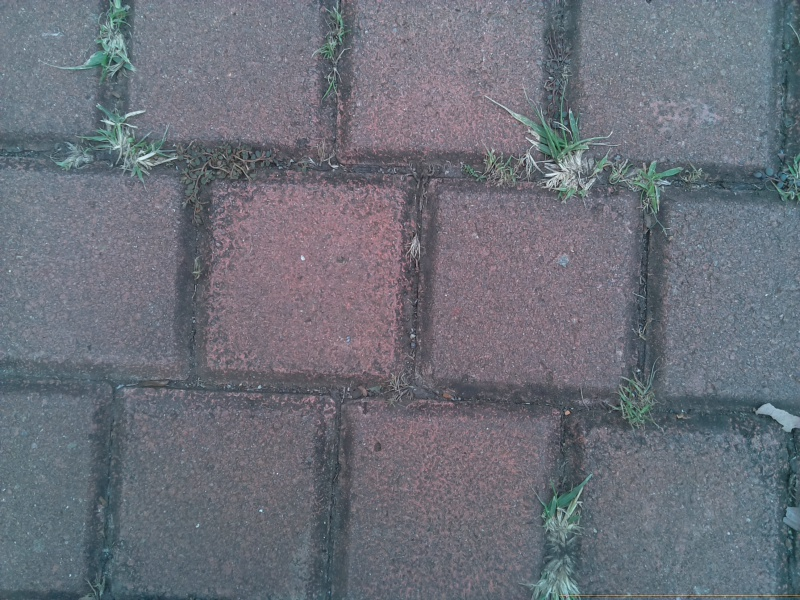Weed: (526, 111, 603, 204), (174, 139, 304, 191), (97, 104, 169, 182), (608, 148, 680, 220), (88, 1, 146, 85), (534, 478, 596, 547), (318, 1, 355, 109), (614, 370, 668, 435), (523, 551, 589, 600), (472, 144, 522, 196), (49, 135, 100, 184), (400, 229, 434, 272)
